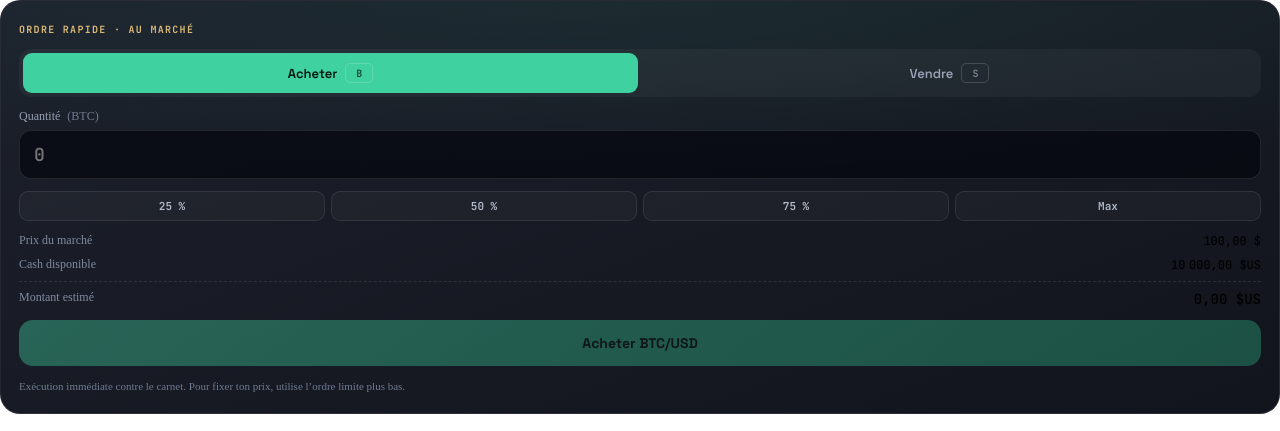
QuickTrade › calcule le montant estimé
This screenshot has width=1280, height=431.
Type "2" into the number field. click: (640, 154)
box: [19,130,1261,179]
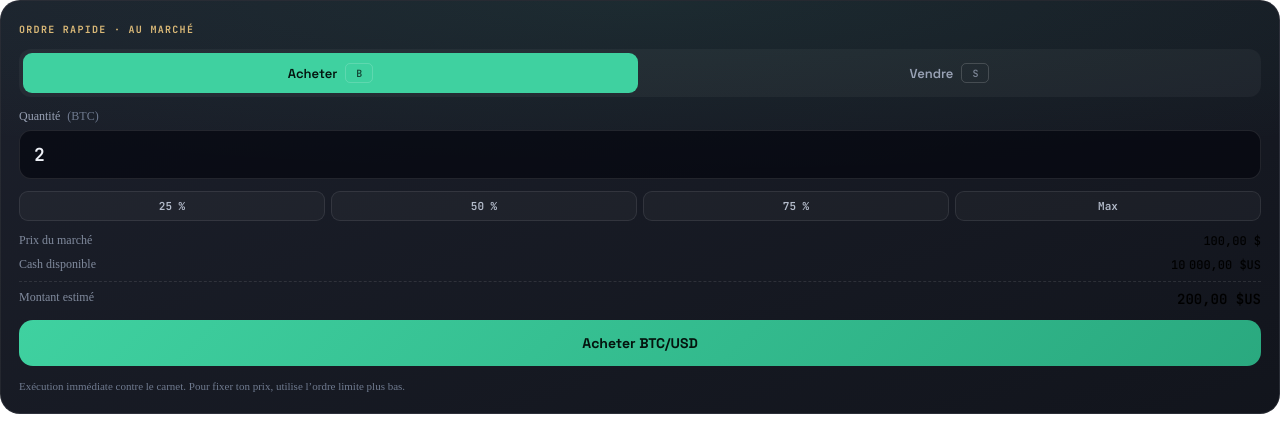
Expected: the text "200,00 $US" is shown, [1177,290,1261,308]
